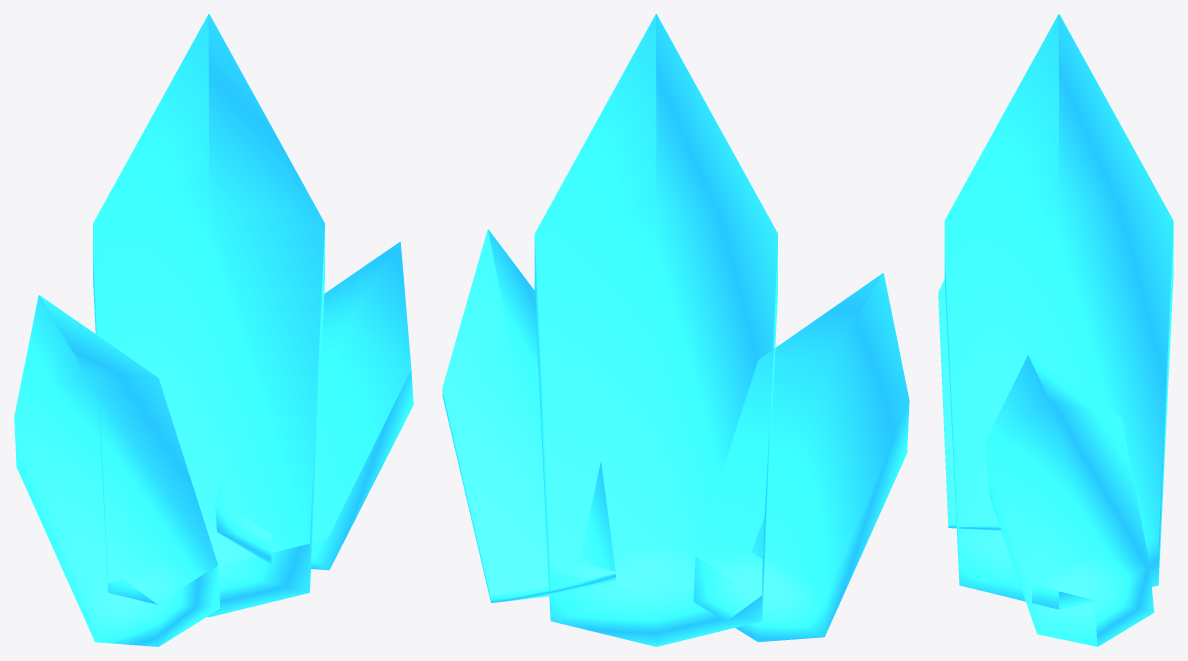
Rendered from crystal.glb.
3 renders of one model, left to right at view 1: azimuth 30°, elevation 25°; view 2: azimuth 150°, elevation 25°; view 3: azimuth 270°, elevation 25°, orthographic. The views are drawn at different scales.
Parts seen in each view (by area): view 1: CrystalProp; view 2: CrystalProp; view 3: CrystalProp.
Boxes of the visible parts, left/top/right/bottom form: CrystalProp: left=14, top=14, right=413, bottom=646; CrystalProp: left=442, top=14, right=909, bottom=646; CrystalProp: left=938, top=14, right=1173, bottom=646.
Size of the model in its own units: 0.8311 by 1.09 by 0.4091.
